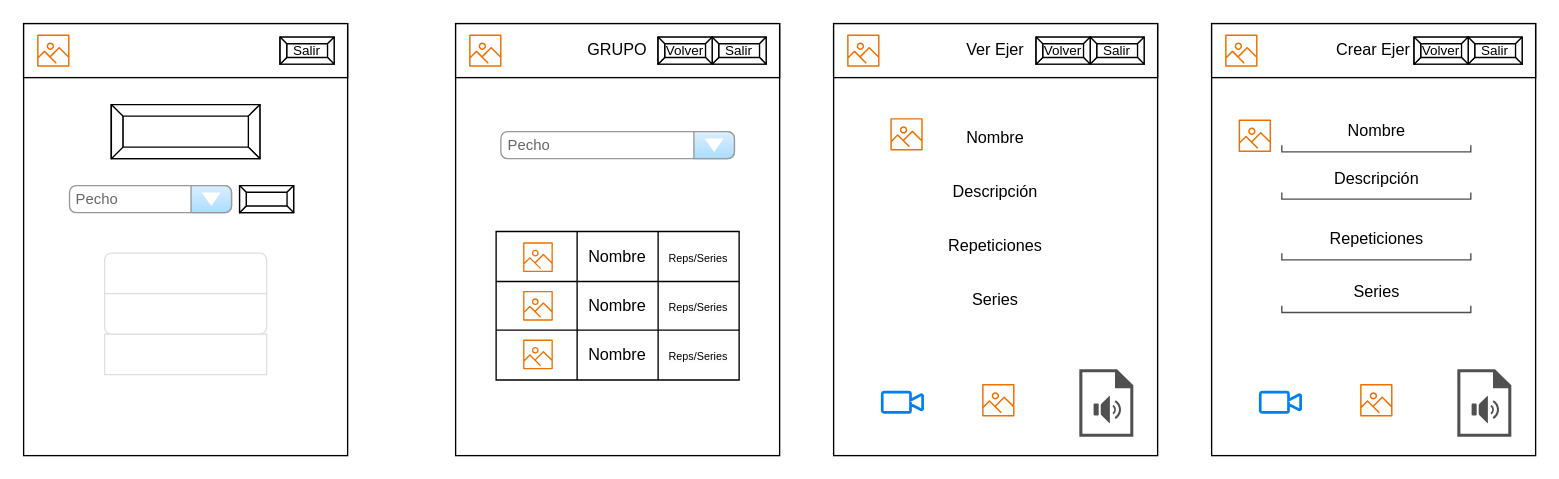
This 1559x479 diagram has some shape labels left out. Each missing label, with the box of its shape:
AÑADIR: (110, 103, 260, 159)
Ejercicio1: (103, 252, 267, 294)
Ejercicio2: (103, 333, 267, 375)
Ejercicio3: (103, 292, 267, 334)
INICIO: (22, 22, 348, 78)
Ver: (238, 184, 294, 213)
